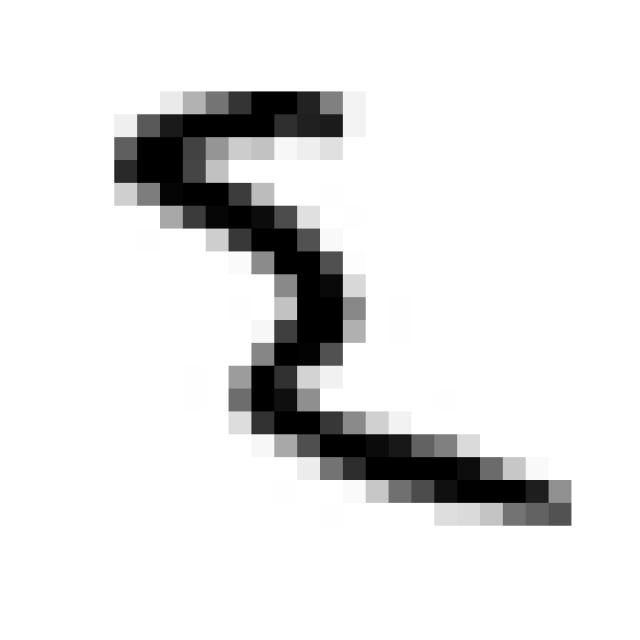4 -four-: (96, 64, 588, 554)
